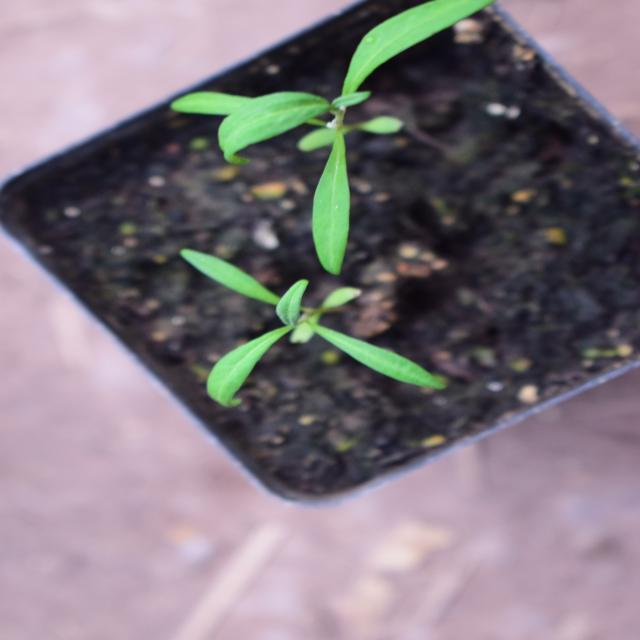white_smart_weed: (201, 143, 428, 497), (416, 152, 628, 474)
